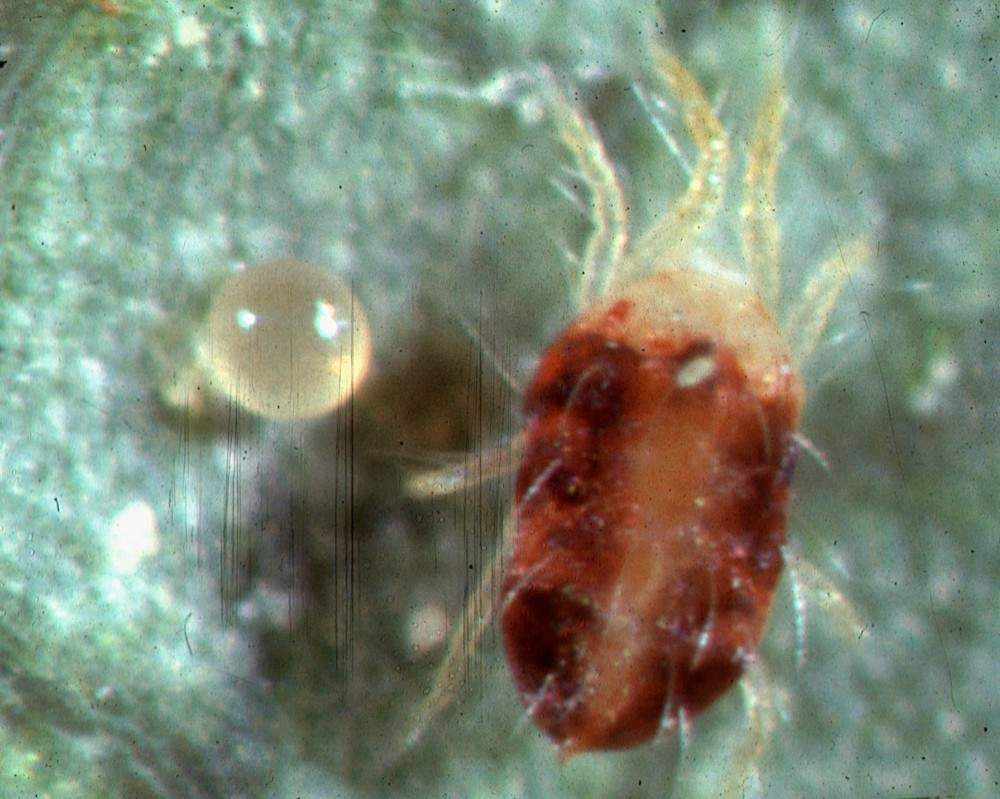Aracnido Rojo: (387, 45, 908, 784)
